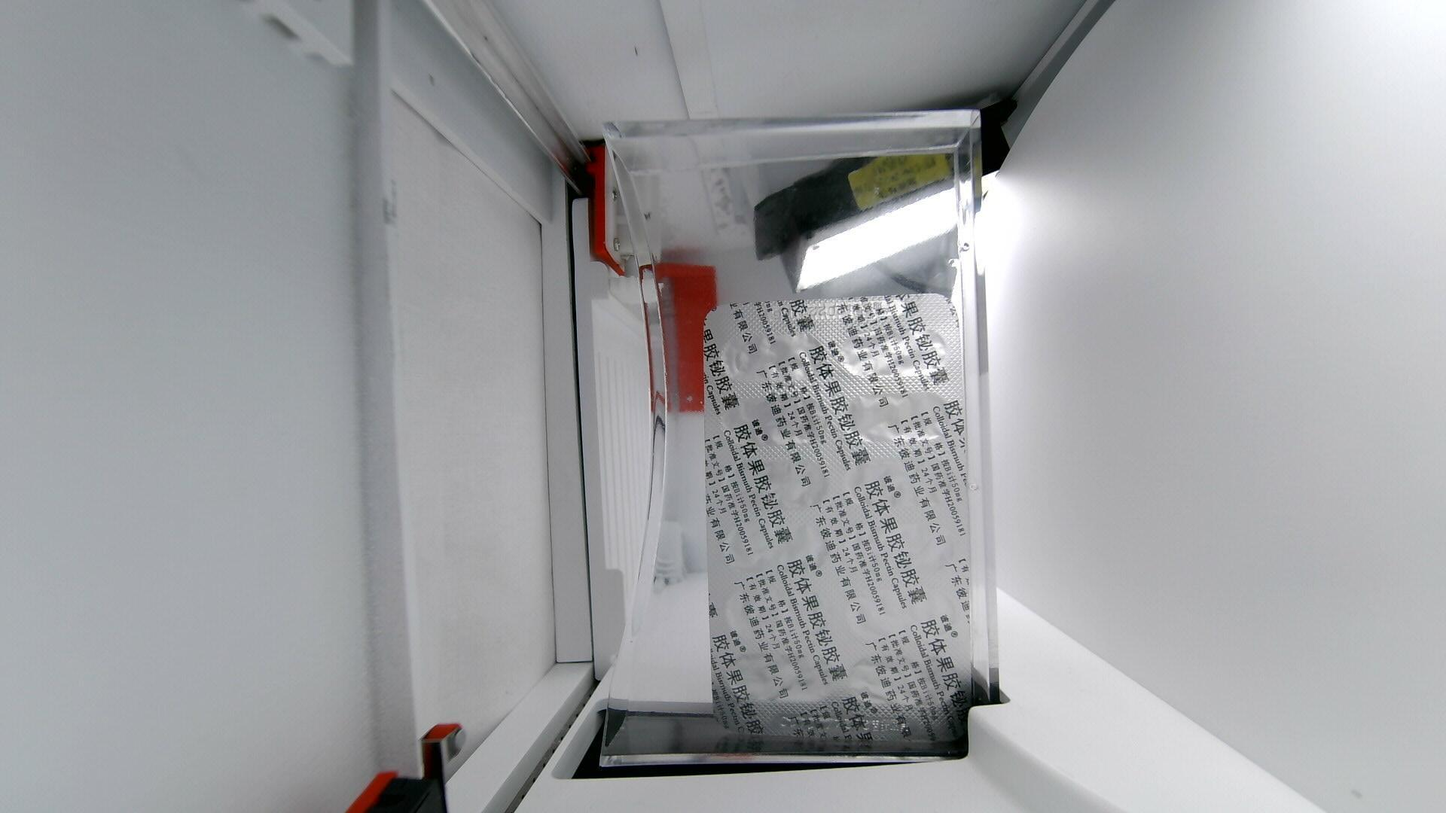Pill Back: (840, 584, 956, 639), (848, 455, 955, 510), (727, 513, 834, 568), (720, 325, 824, 380), (725, 648, 832, 701), (841, 388, 951, 438), (728, 454, 831, 506), (851, 656, 952, 709), (728, 581, 828, 634), (840, 329, 950, 375), (844, 520, 955, 565), (718, 394, 826, 438)
